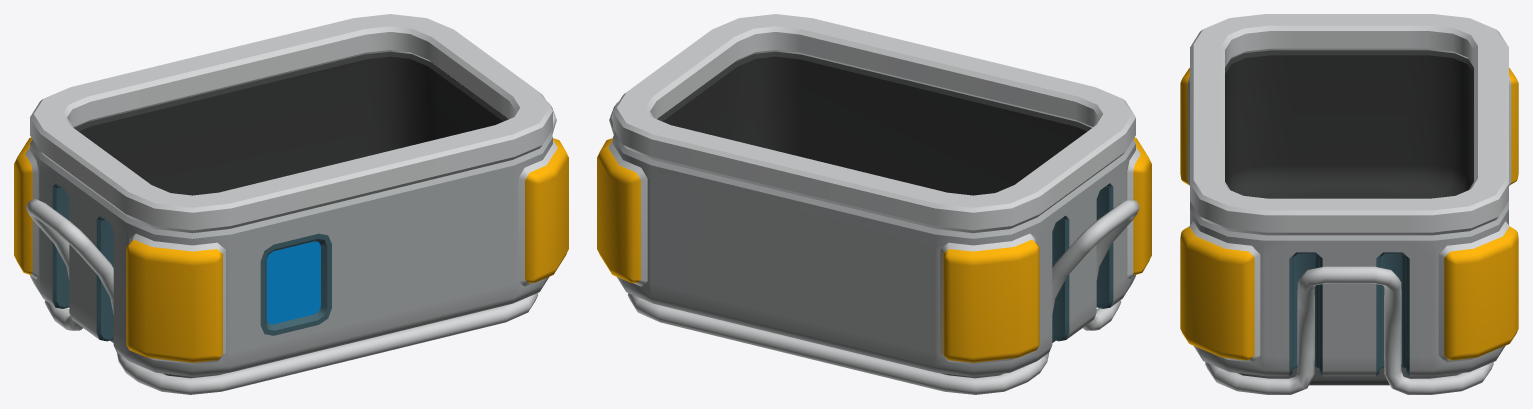
The model's file is Crate_005.fbx.
3 views of the same model, side by side, from view 1: azimuth 30°, elevation 25°; view 2: azimuth 150°, elevation 25°; view 3: azimuth 270°, elevation 25° (orthographic).
Visible parts, largest first — view 1: Crate_005; view 2: Crate_005; view 3: Crate_005.
Part boxes in pixels (x1,y1,x2,y2): Crate_005: [14, 14, 568, 394]; Crate_005: [597, 14, 1151, 394]; Crate_005: [1180, 14, 1518, 394].
Bounding box in the file's own units: 83.31 × 50.23 × 31.7.
